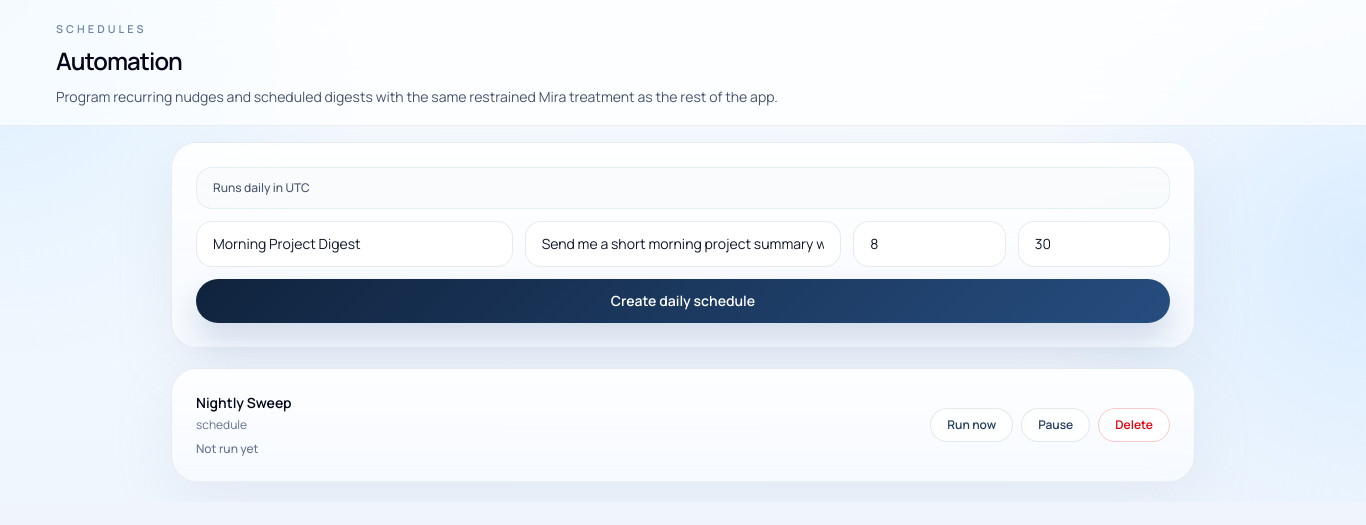
Test: SchedulePage timezone handling › shows specific feedback when pause or delete actions fail
The width and height of the screenshot is (1366, 525).
expect the text "Nightly Sweep" is shown: met, box [196,393,292,413]
Click the button "Pause".
click(1056, 425)  # box [1021,408,1090,442]
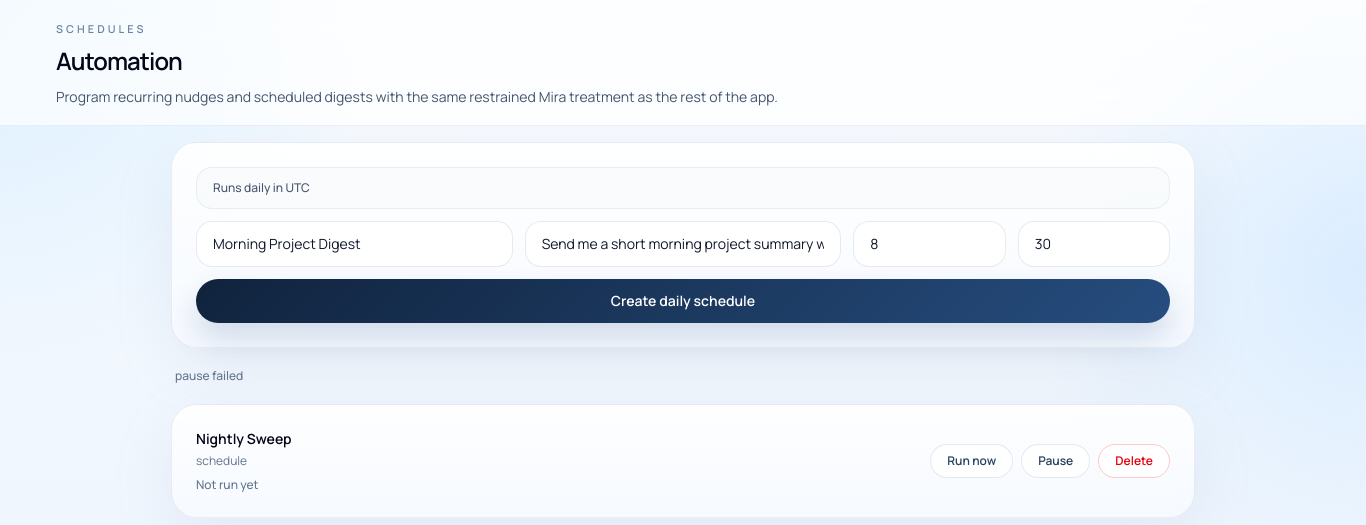
expect the text "pause failed" is shown: met, box [175,367,243,384]
Click the button "Delete".
click(1134, 461)  # box [1098,444,1170,478]
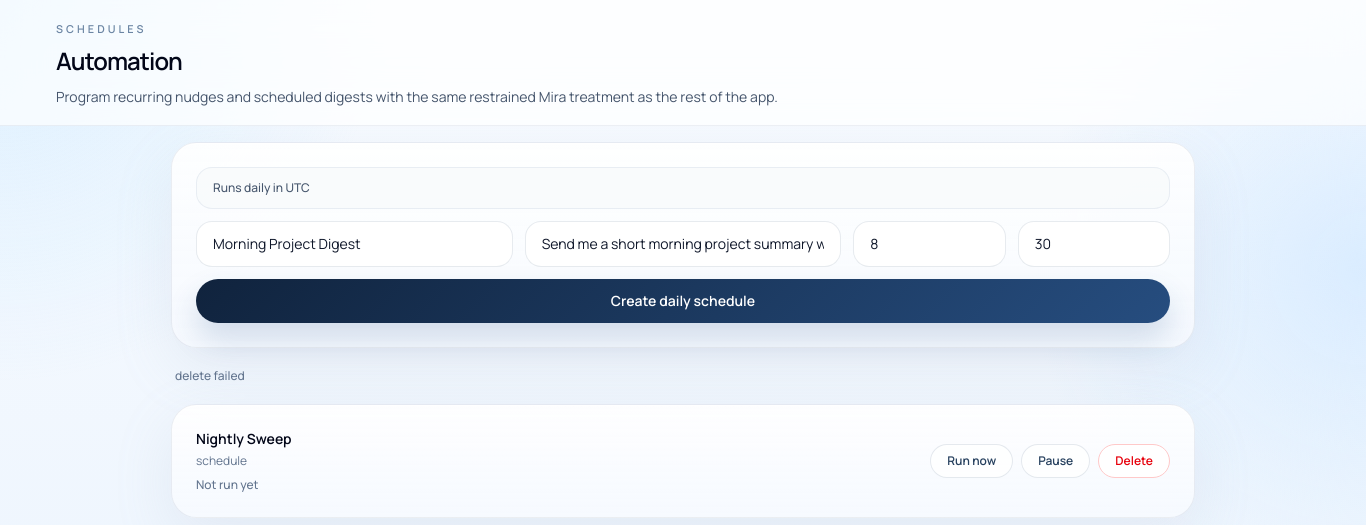
expect the text "delete failed" is shown: met, box [175,367,245,384]
